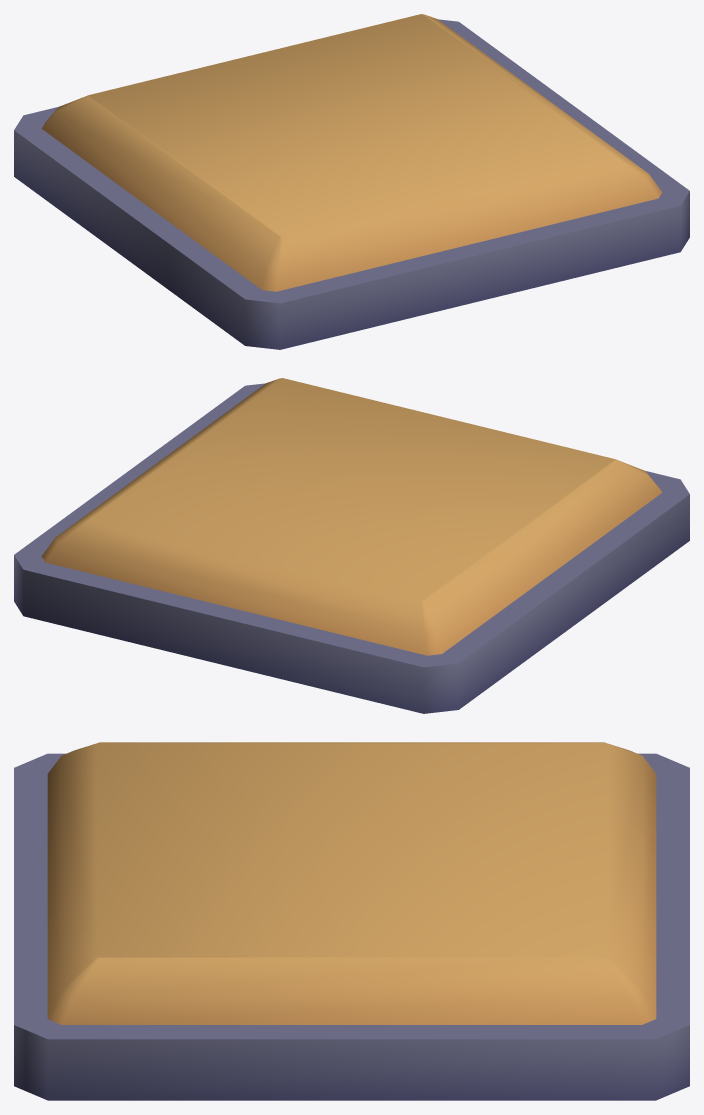
Rendered from button-floor-square.glb.
3 renders of one model, top to bottom at view 1: azimuth 30°, elevation 25°; view 2: azimuth 150°, elevation 25°; view 3: azimuth 270°, elevation 25°, orthographic. The views are drawn at different scales.
Visible parts, largest first — view 1: button, button-floor-square; view 2: button, button-floor-square; view 3: button, button-floor-square.
Boxes of the visible parts, box(x1,y1,x2,y2) form: button: box(41, 14, 662, 291); button-floor-square: box(14, 19, 689, 349); button: box(41, 378, 662, 655); button-floor-square: box(14, 383, 689, 713); button: box(47, 742, 656, 1024); button-floor-square: box(14, 753, 689, 1100).
Size of the model in its own units: 1 by 0.175 by 1.
